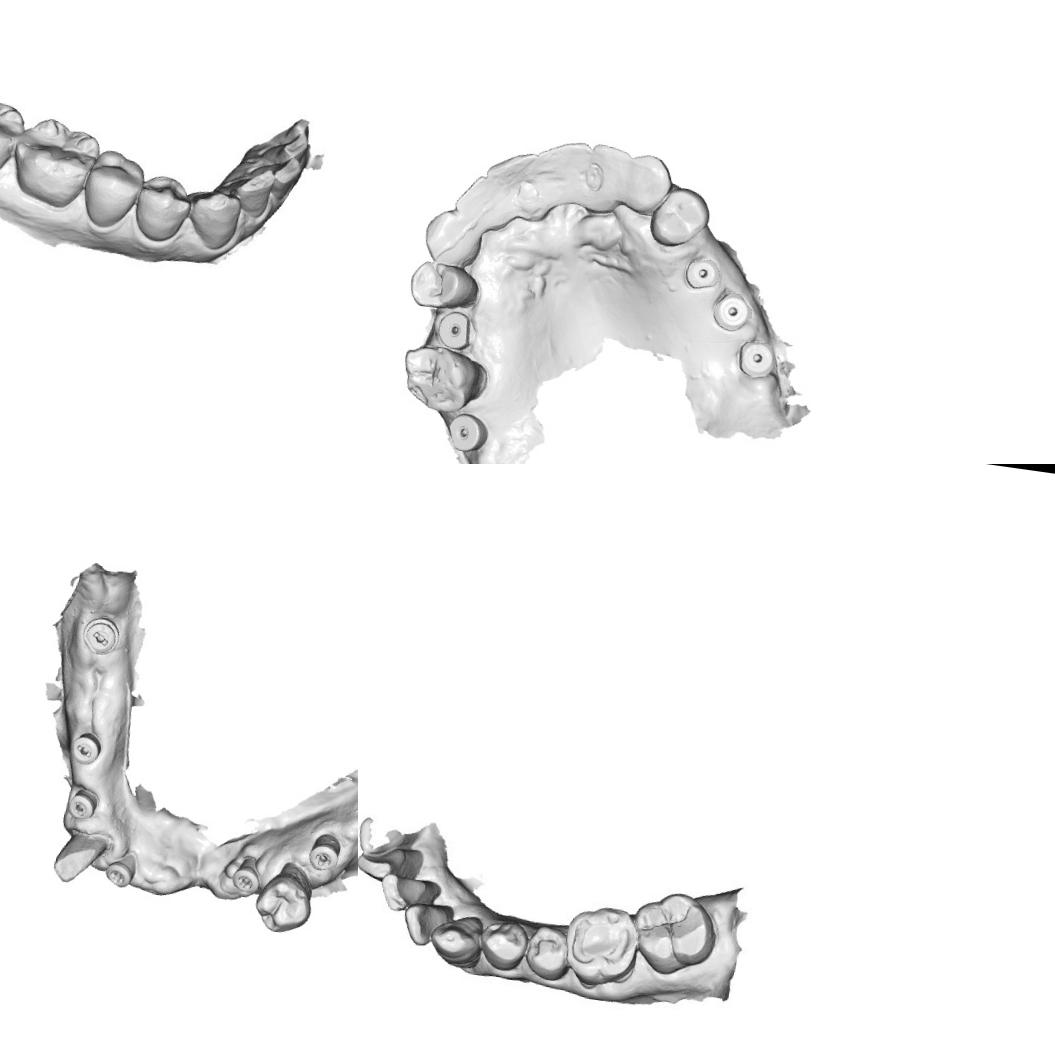canine: (420, 206, 487, 271), (184, 184, 246, 254), (624, 150, 676, 218), (424, 914, 482, 966)
crown: (48, 830, 108, 890)
implant: (709, 287, 756, 336), (445, 409, 491, 456), (734, 336, 780, 381), (434, 308, 480, 353), (681, 253, 723, 294)
implant_minus: (79, 614, 125, 660), (67, 730, 104, 768), (64, 786, 100, 823)
implant_plus: (305, 830, 345, 875), (228, 854, 264, 897), (102, 852, 140, 891)
incisor: (480, 145, 540, 217), (450, 172, 514, 234), (533, 134, 593, 198), (378, 870, 436, 918), (230, 165, 277, 224), (264, 154, 308, 214), (586, 141, 634, 196), (404, 902, 455, 948), (358, 840, 407, 883), (277, 131, 314, 173)
molar: (8, 107, 100, 214), (626, 886, 724, 982), (557, 895, 642, 989), (397, 341, 492, 419), (0, 82, 28, 185)
premolar: (74, 144, 148, 228), (128, 166, 194, 244), (646, 182, 714, 252), (250, 870, 318, 937), (406, 258, 482, 314), (478, 912, 535, 978), (522, 926, 572, 980)
